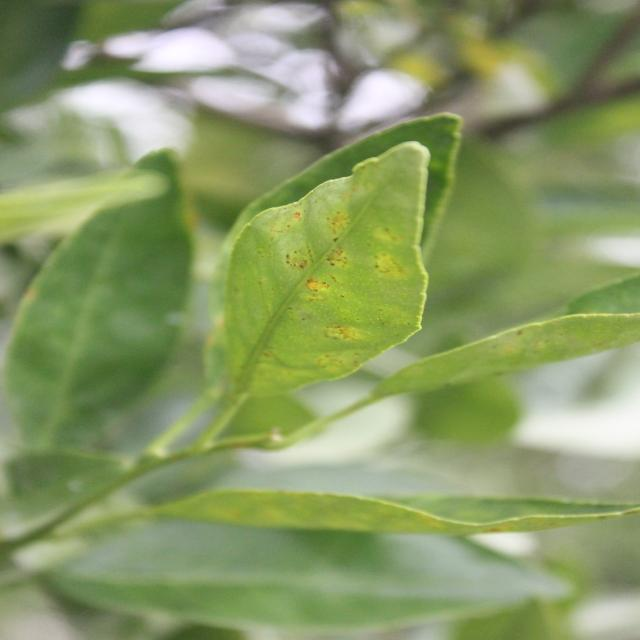canker: (247, 195, 414, 378)
